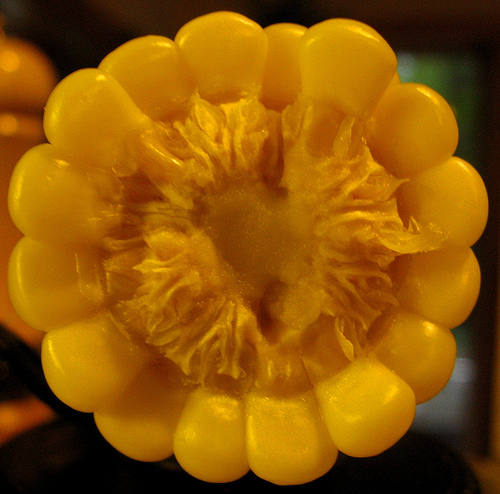corn: (4, 9, 491, 487)
